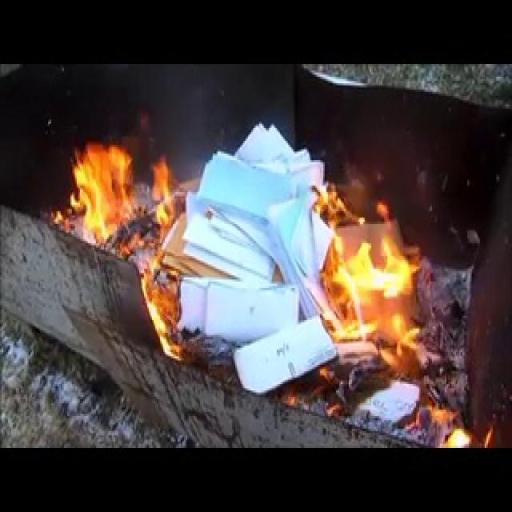smoke: (306, 156, 440, 362), (40, 74, 178, 266)
